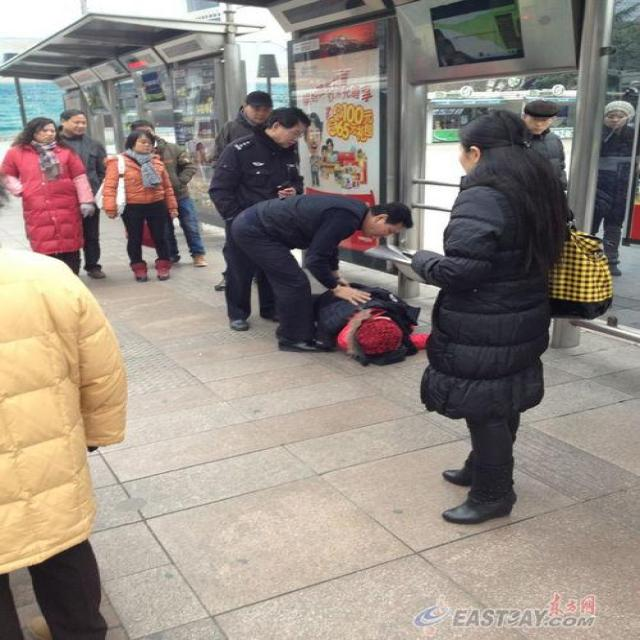fall: (262, 276, 438, 366)
